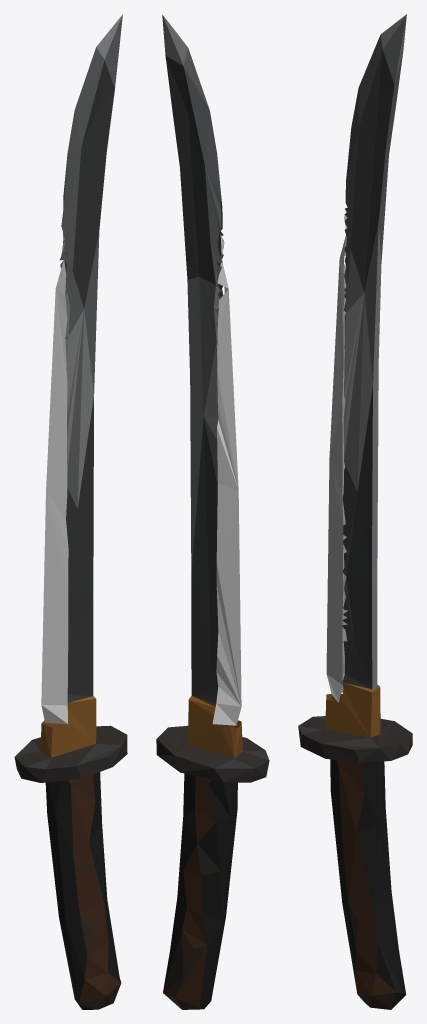
File: aiwpn_katana_lo.glb
3 renders of one model, left to right at view 1: azimuth 30°, elevation 25°; view 2: azimuth 150°, elevation 25°; view 3: azimuth 330°, elevation 25°, orthographic.
Visible parts, largest first — view 1: ca_aiwpn_katana_lo; view 2: ca_aiwpn_katana_lo; view 3: ca_aiwpn_katana_lo.
Boxes of the visible parts, bbox=[...] form: ca_aiwpn_katana_lo: bbox=[14, 14, 127, 1009]; ca_aiwpn_katana_lo: bbox=[156, 14, 269, 1009]; ca_aiwpn_katana_lo: bbox=[298, 14, 412, 1009].
Size of the model in its own units: 0.1523 by 1.36 by 0.0993.
